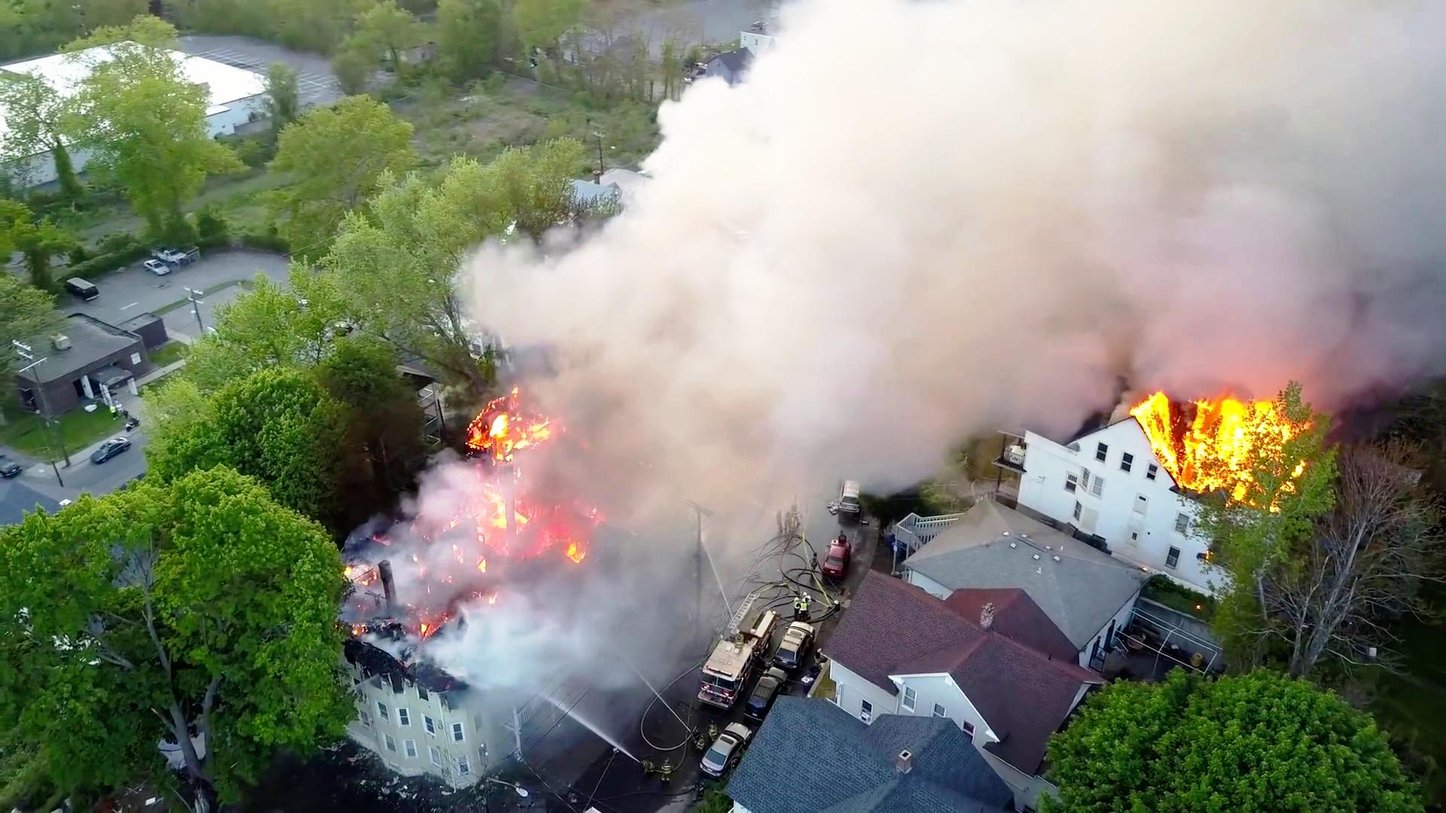fire: (1136, 375, 1305, 506), (468, 399, 571, 466)
